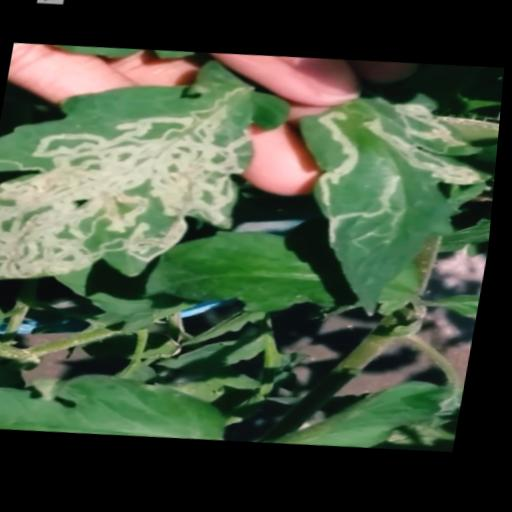Leaf_Miner: (0, 40, 303, 305), (266, 88, 502, 329)
